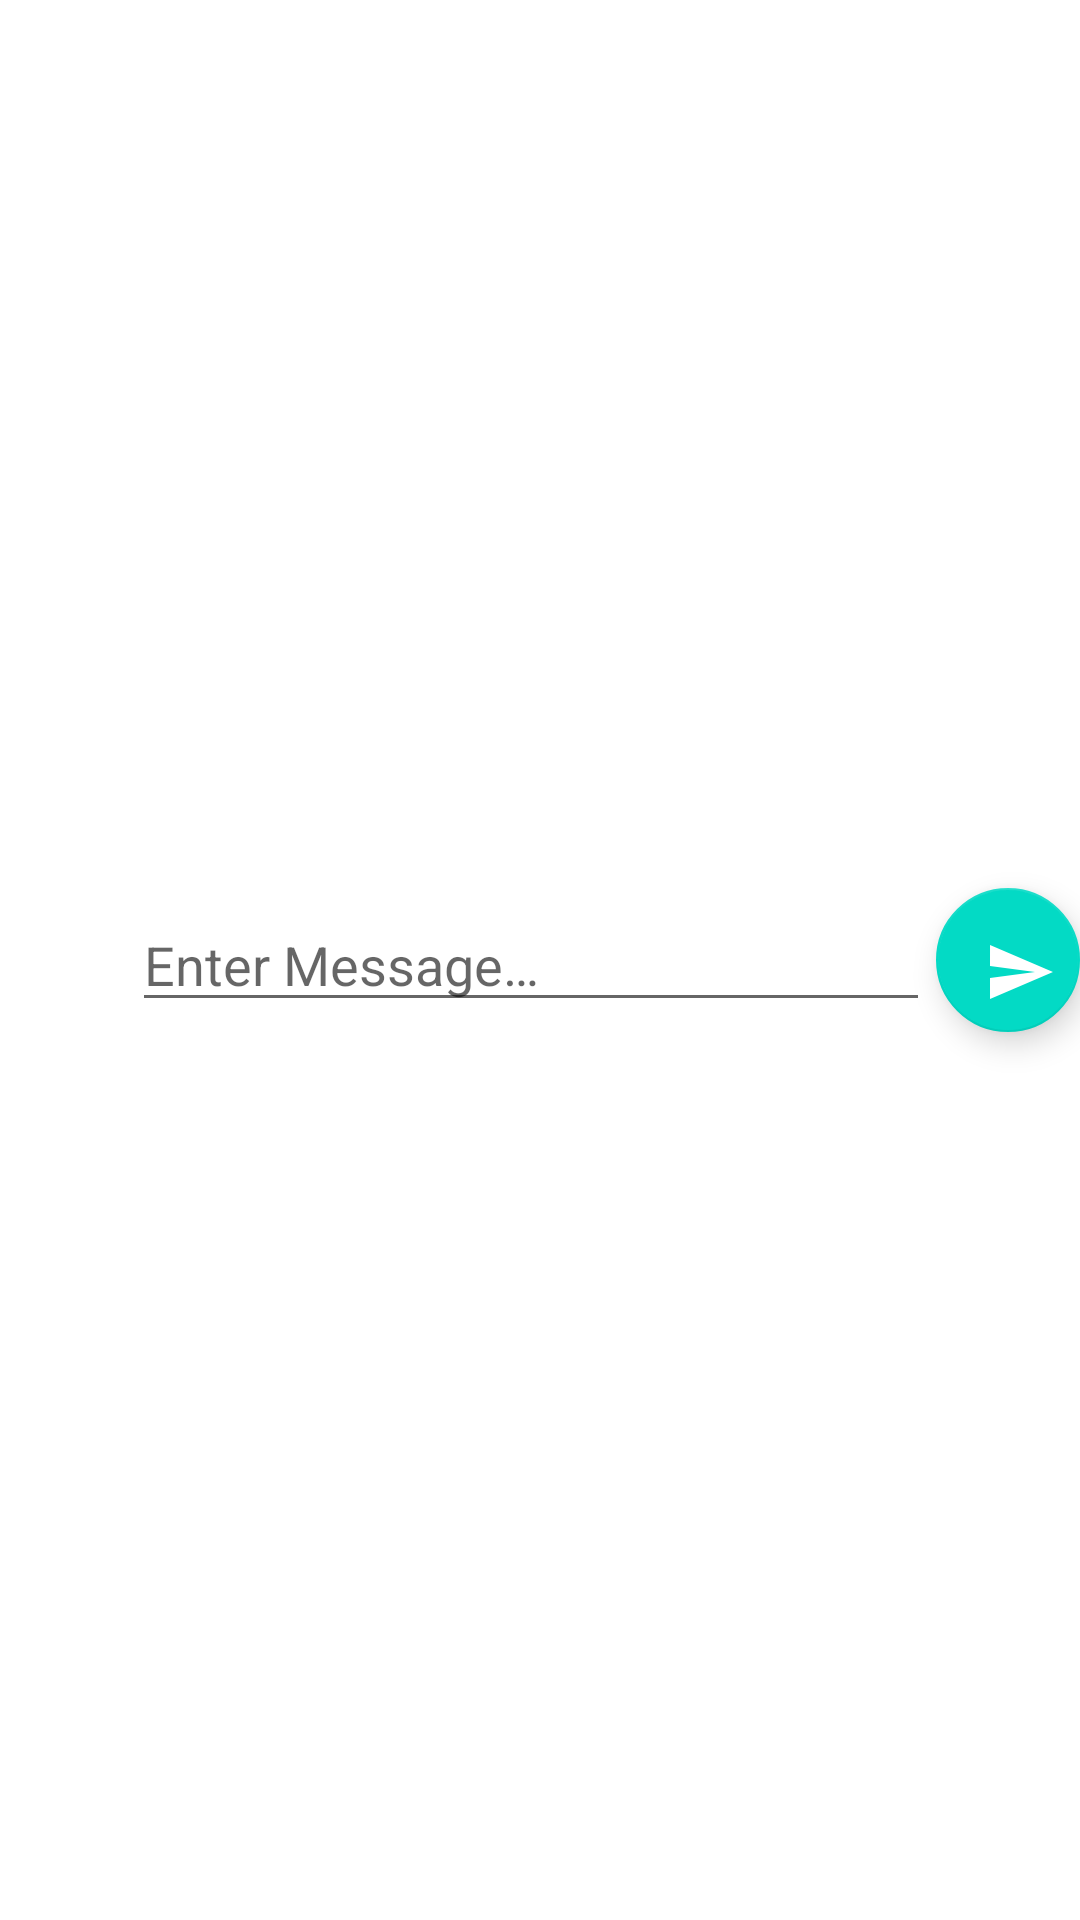

Icon bounding boxes for this 1080 x 1920 phone screenshot, format (x1, y1, x2, y2):
send: (936, 888, 1080, 1032)
